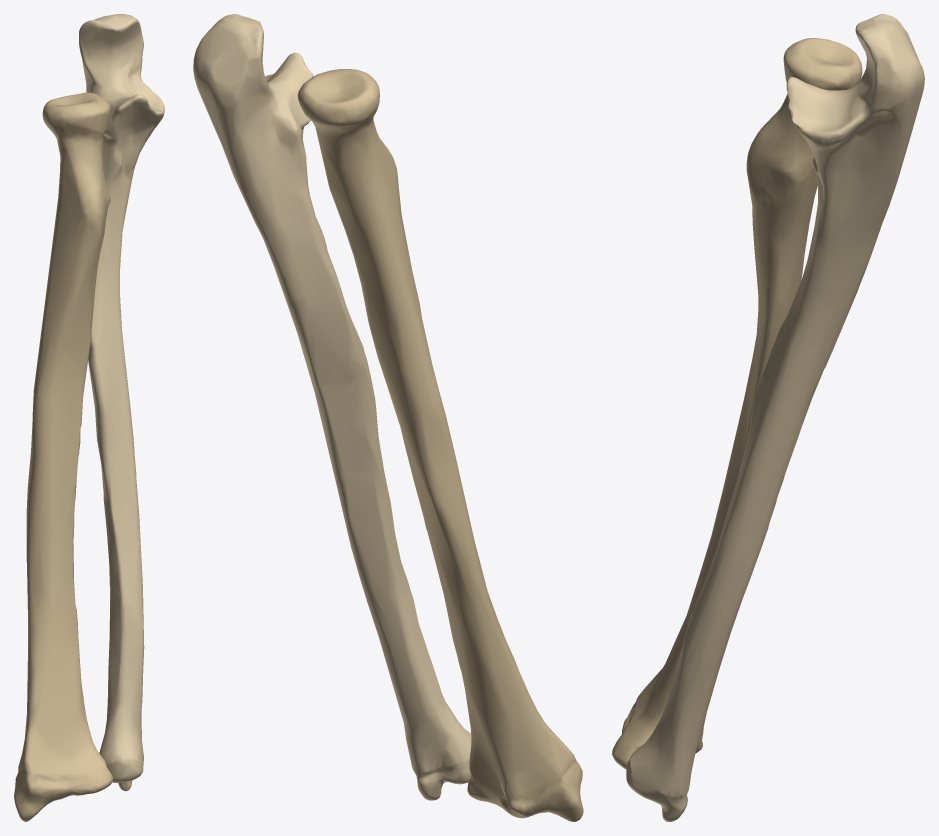
The model's file is r-forearm.glb.
3 views of the same model, side by side, from view 1: azimuth 30°, elevation 25°; view 2: azimuth 150°, elevation 25°; view 3: azimuth 270°, elevation 25° (orthographic). The views are drawn at different scales.
Parts seen in each view (by area): view 1: right-radius, right-ulna; view 2: right-ulna, right-radius; view 3: right-ulna, right-radius.
Part boxes in pixels (x1,y1,x2,y2): right-radius: [14, 92, 112, 821]; right-ulna: [79, 14, 164, 791]; right-ulna: [193, 14, 471, 800]; right-radius: [297, 69, 583, 821]; right-ulna: [626, 14, 924, 821]; right-radius: [612, 38, 862, 769].
Bounding box in the file's own units: 0.2075 × 0.6192 × 0.2085.
